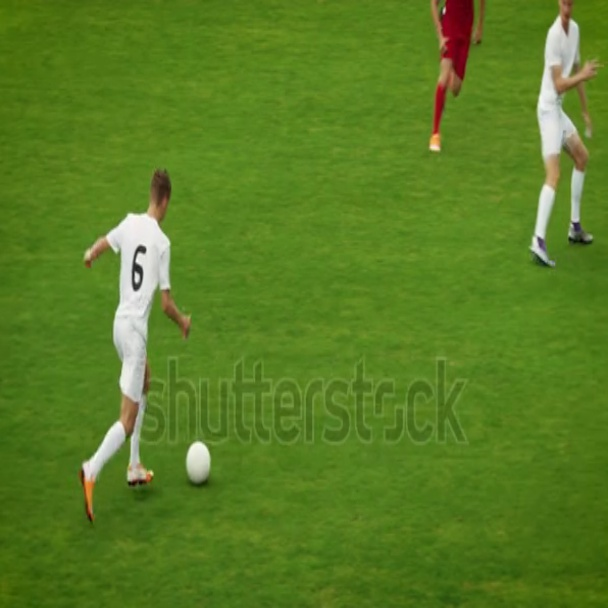ball: (182, 439, 213, 487)
